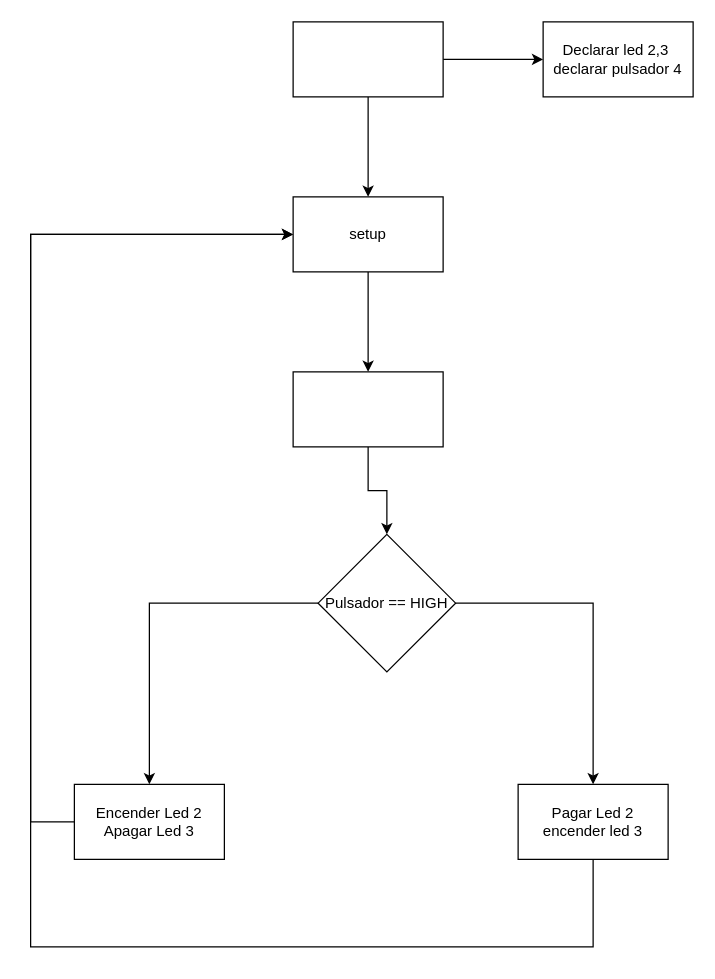
This 715x979 diagram has some shape labels left out. The shapes that lost their labels are listed below. From the top down, each one's centre as x and y in pixels, then its label:
At (367,59): "loop".
At (367,409): "Leer la señal del pulsador".
